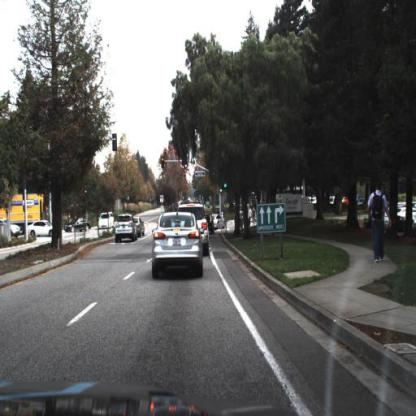car: (152, 212, 204, 278), (197, 203, 211, 258), (115, 213, 137, 243), (116, 214, 137, 245), (1, 218, 22, 240), (29, 221, 56, 238), (66, 217, 93, 233), (97, 209, 115, 233), (66, 219, 90, 234), (98, 211, 115, 231), (213, 212, 227, 232), (136, 217, 146, 238), (209, 215, 215, 234)
pedestrian: (367, 185, 388, 261)
trafficLight: (162, 155, 167, 168)
trafficLight-Green: (224, 176, 229, 194), (184, 155, 189, 171), (219, 183, 224, 194)
trafficLight-RedLeft: (161, 154, 168, 172)
truck: (1, 189, 45, 227)
